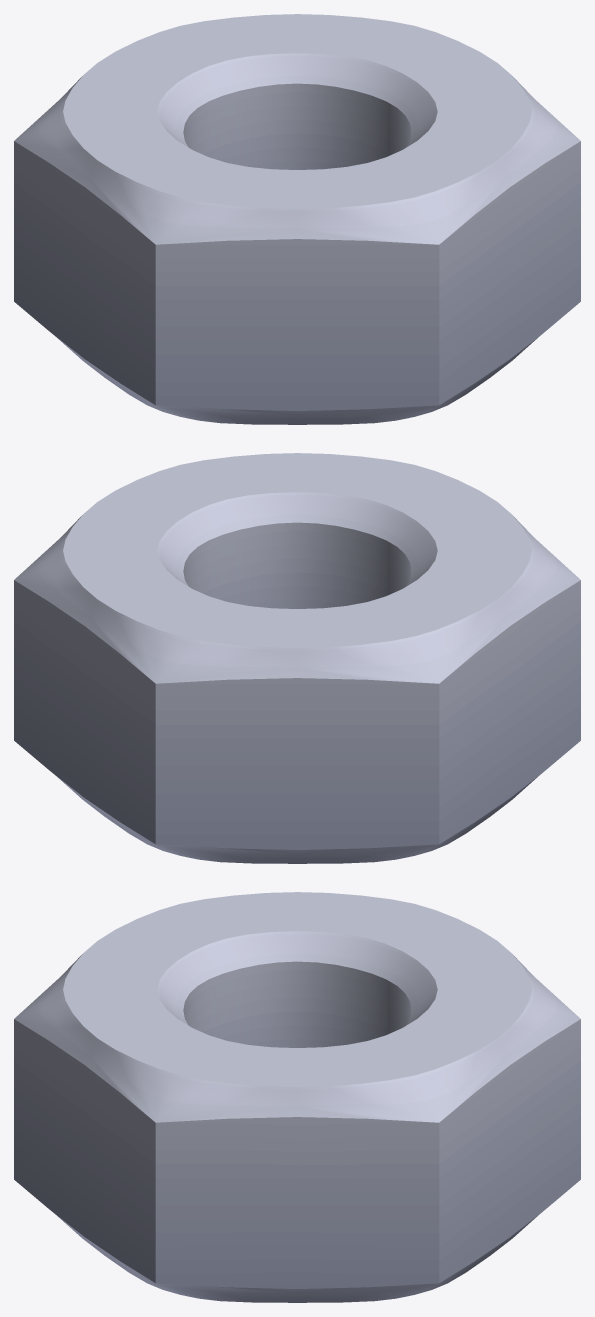
File: sm_nut.fbx
The picture shows the model from 3 angles, top to bottom: view 1: azimuth 30°, elevation 25°; view 2: azimuth 150°, elevation 25°; view 3: azimuth 270°, elevation 25°; orthographic projection.
Parts seen in each view (by area): view 1: Cylinder.003; view 2: Cylinder.003; view 3: Cylinder.003.
Boxes of the visible parts, x1,y1,x2,y2 form: Cylinder.003: (14,14,580,424); Cylinder.003: (14,453,580,863); Cylinder.003: (14,892,580,1302).
Size of the model in its own units: 9.1 by 10.51 by 4.49.
